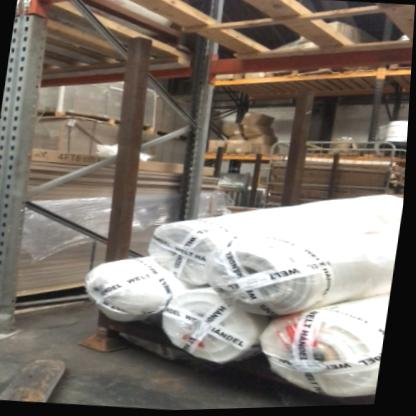vertical_damage: (1, 285, 33, 345)
